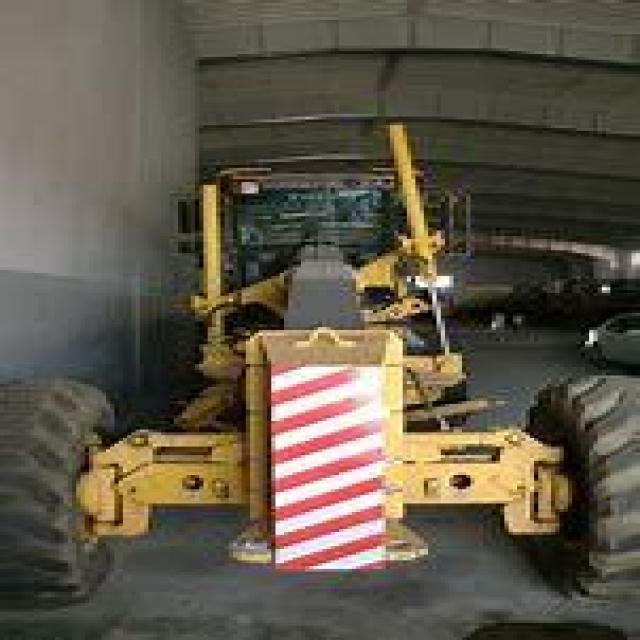buldozerpayloadergrader: (8, 143, 636, 632)
